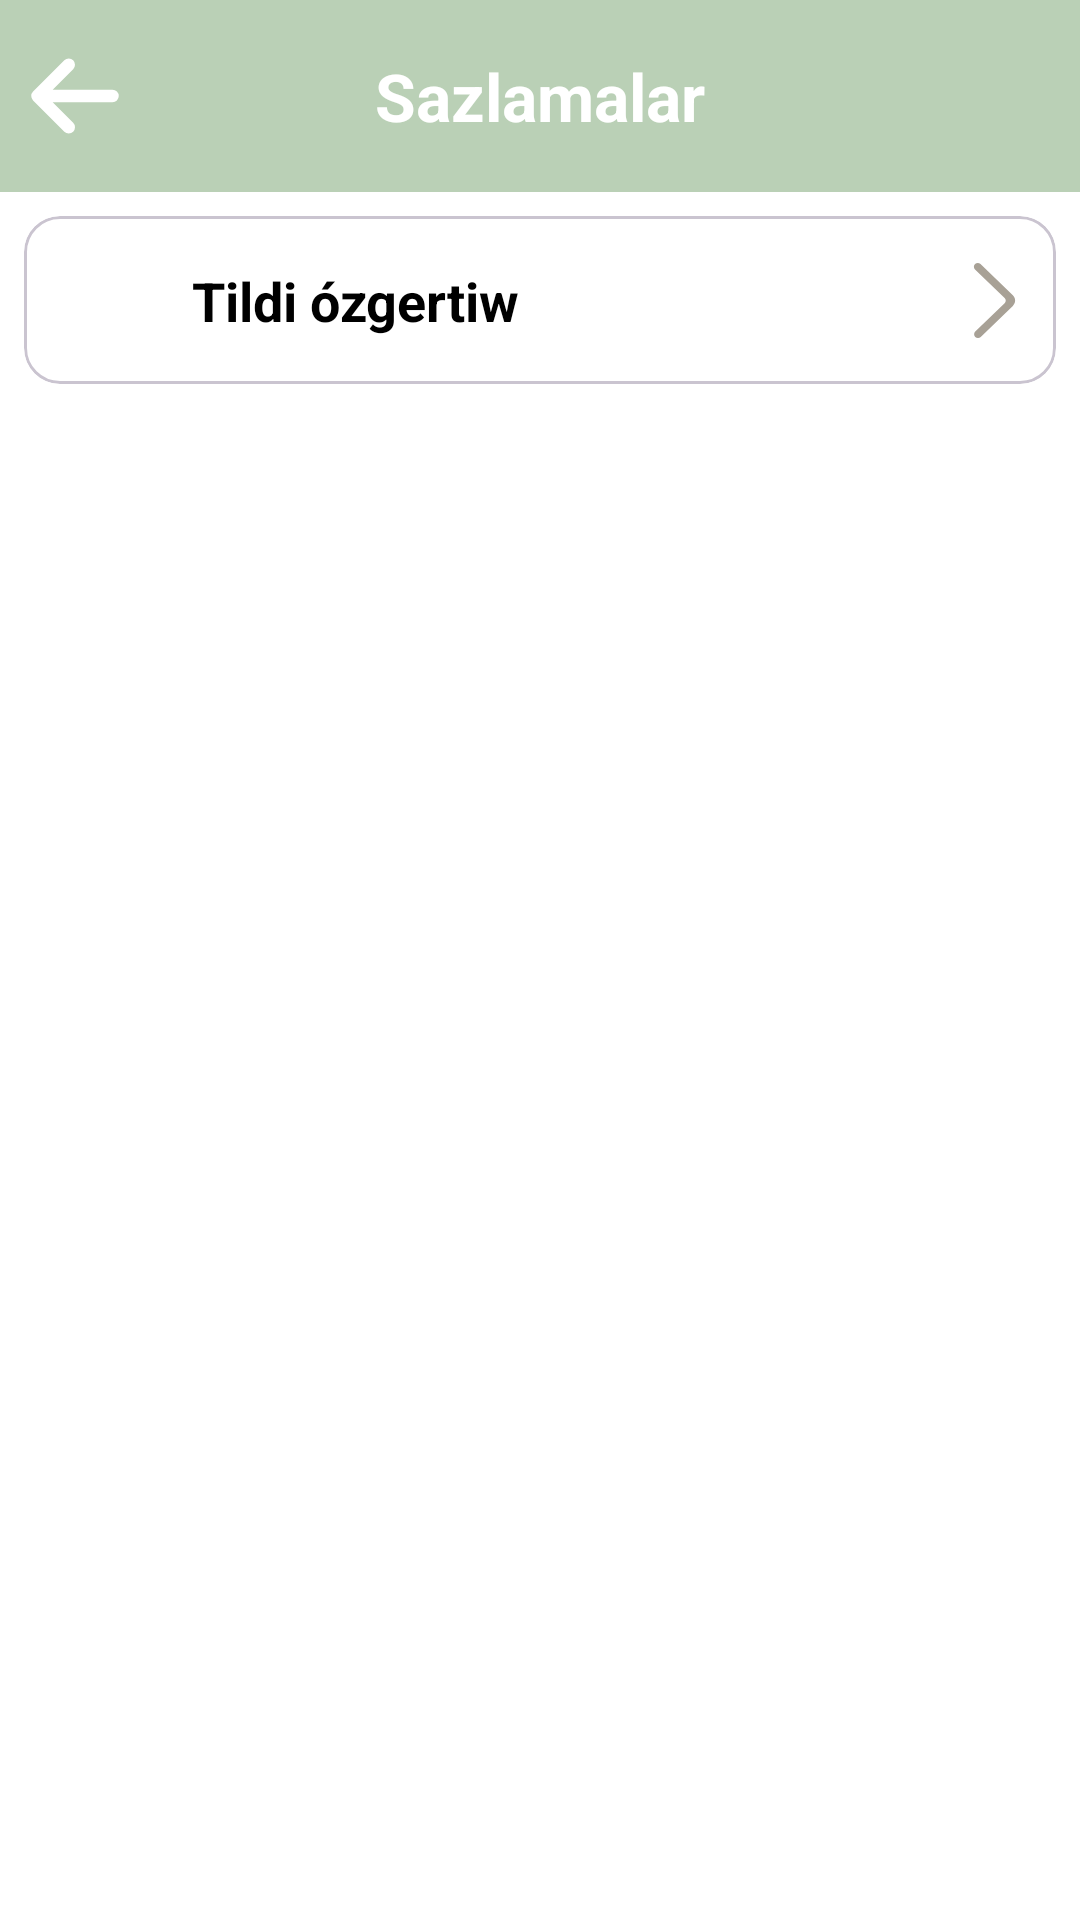

Icon bounding boxes for this 1080×1920 phone screenshot, format (x1, y1, x2, y2):
arrow left: (31, 58, 119, 134)
arrow right: (974, 263, 1015, 338)
